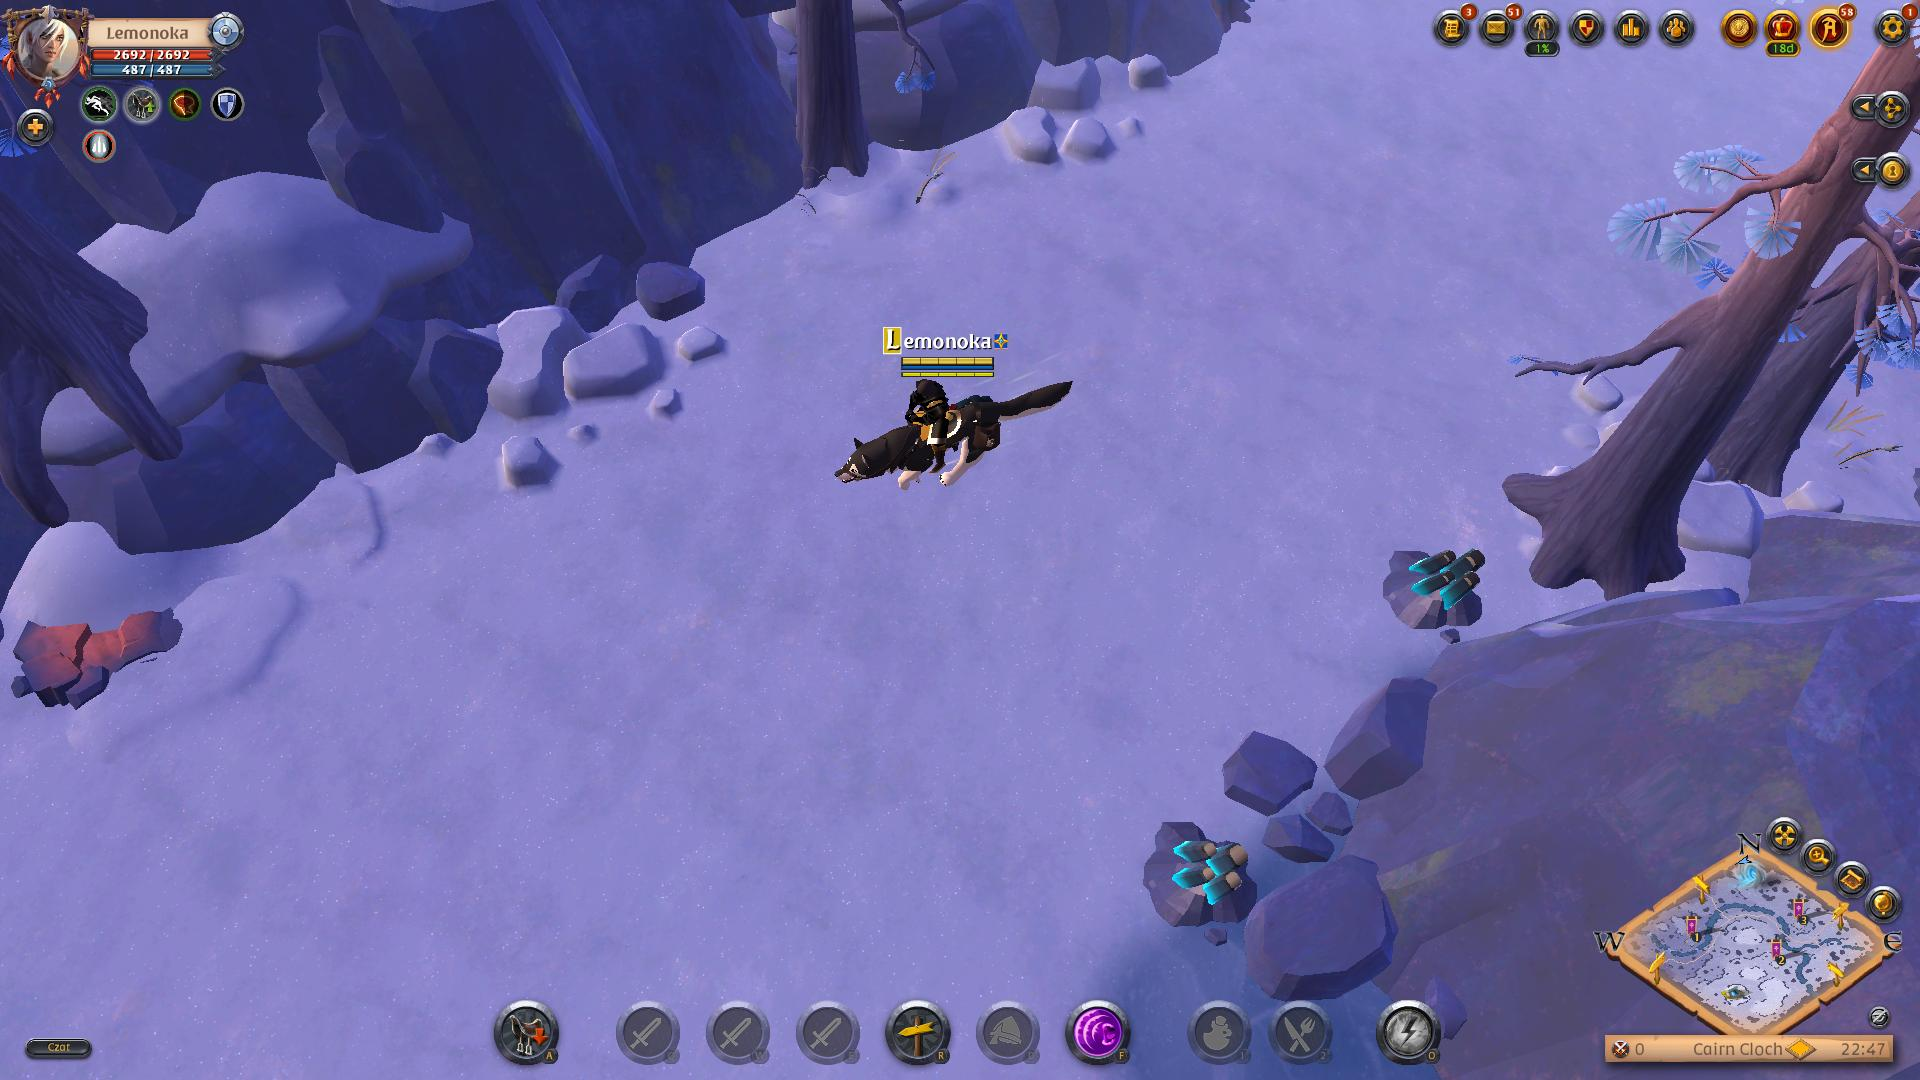ore tier 4: (1141, 810, 1263, 936), (1385, 534, 1501, 645)
